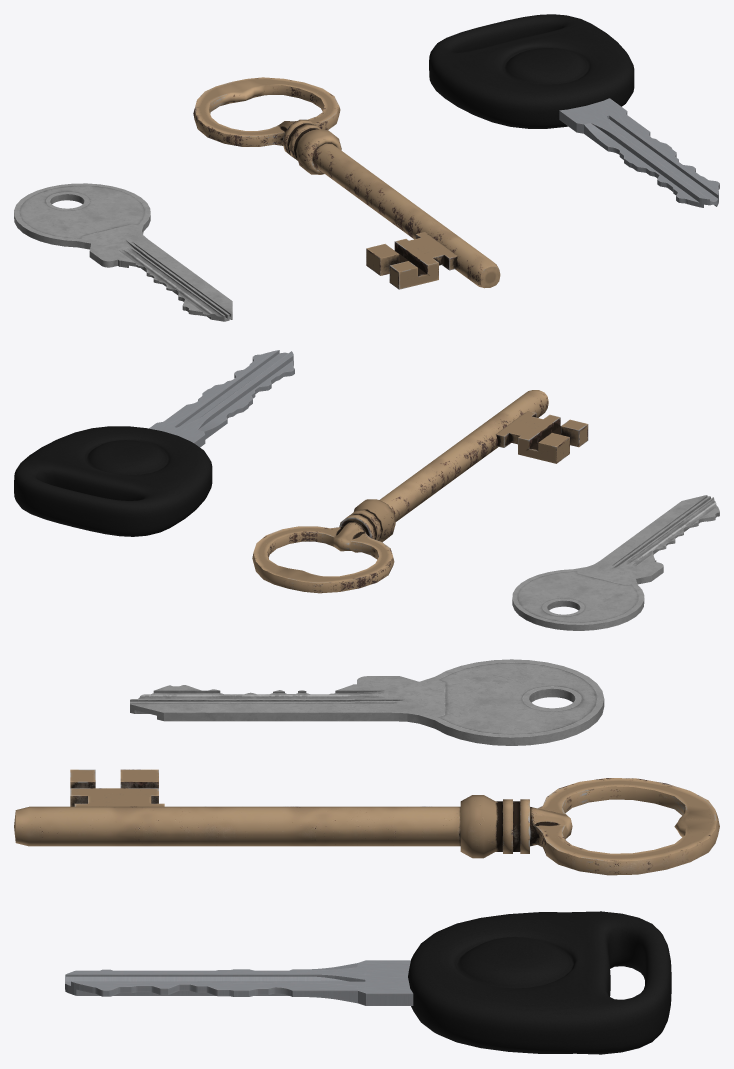
The picture shows the model from 3 angles, top to bottom: view 1: azimuth 30°, elevation 25°; view 2: azimuth 150°, elevation 25°; view 3: azimuth 270°, elevation 25°; orthographic projection. The views are drawn at different scales.
Visible parts, largest first — view 1: Key3_1, Key2, Key1, Key3_2; view 2: Key3_1, Key2, Key1, Key3_2; view 3: Key2, Key3_1, Key1, Key3_2.
Part boxes in pixels (left/top/right/bottom): Key3_1: left=429, top=14, right=634, bottom=128; Key2: left=193, top=77, right=500, bottom=289; Key1: left=14, top=183, right=232, bottom=321; Key3_2: left=559, top=98, right=719, bottom=207; Key3_1: left=14, top=426, right=212, bottom=536; Key2: left=252, top=390, right=588, bottom=593; Key1: left=512, top=495, right=719, bottom=630; Key3_2: left=149, top=350, right=294, bottom=447; Key2: left=14, top=769, right=719, bottom=875; Key3_1: left=408, top=911, right=671, bottom=1054; Key1: left=130, top=659, right=604, bottom=745; Key3_2: left=65, top=960, right=413, bottom=1005.
Bounding box in the file's own units: 499 × 36.34 × 371.
3 materials, 3 textured.
